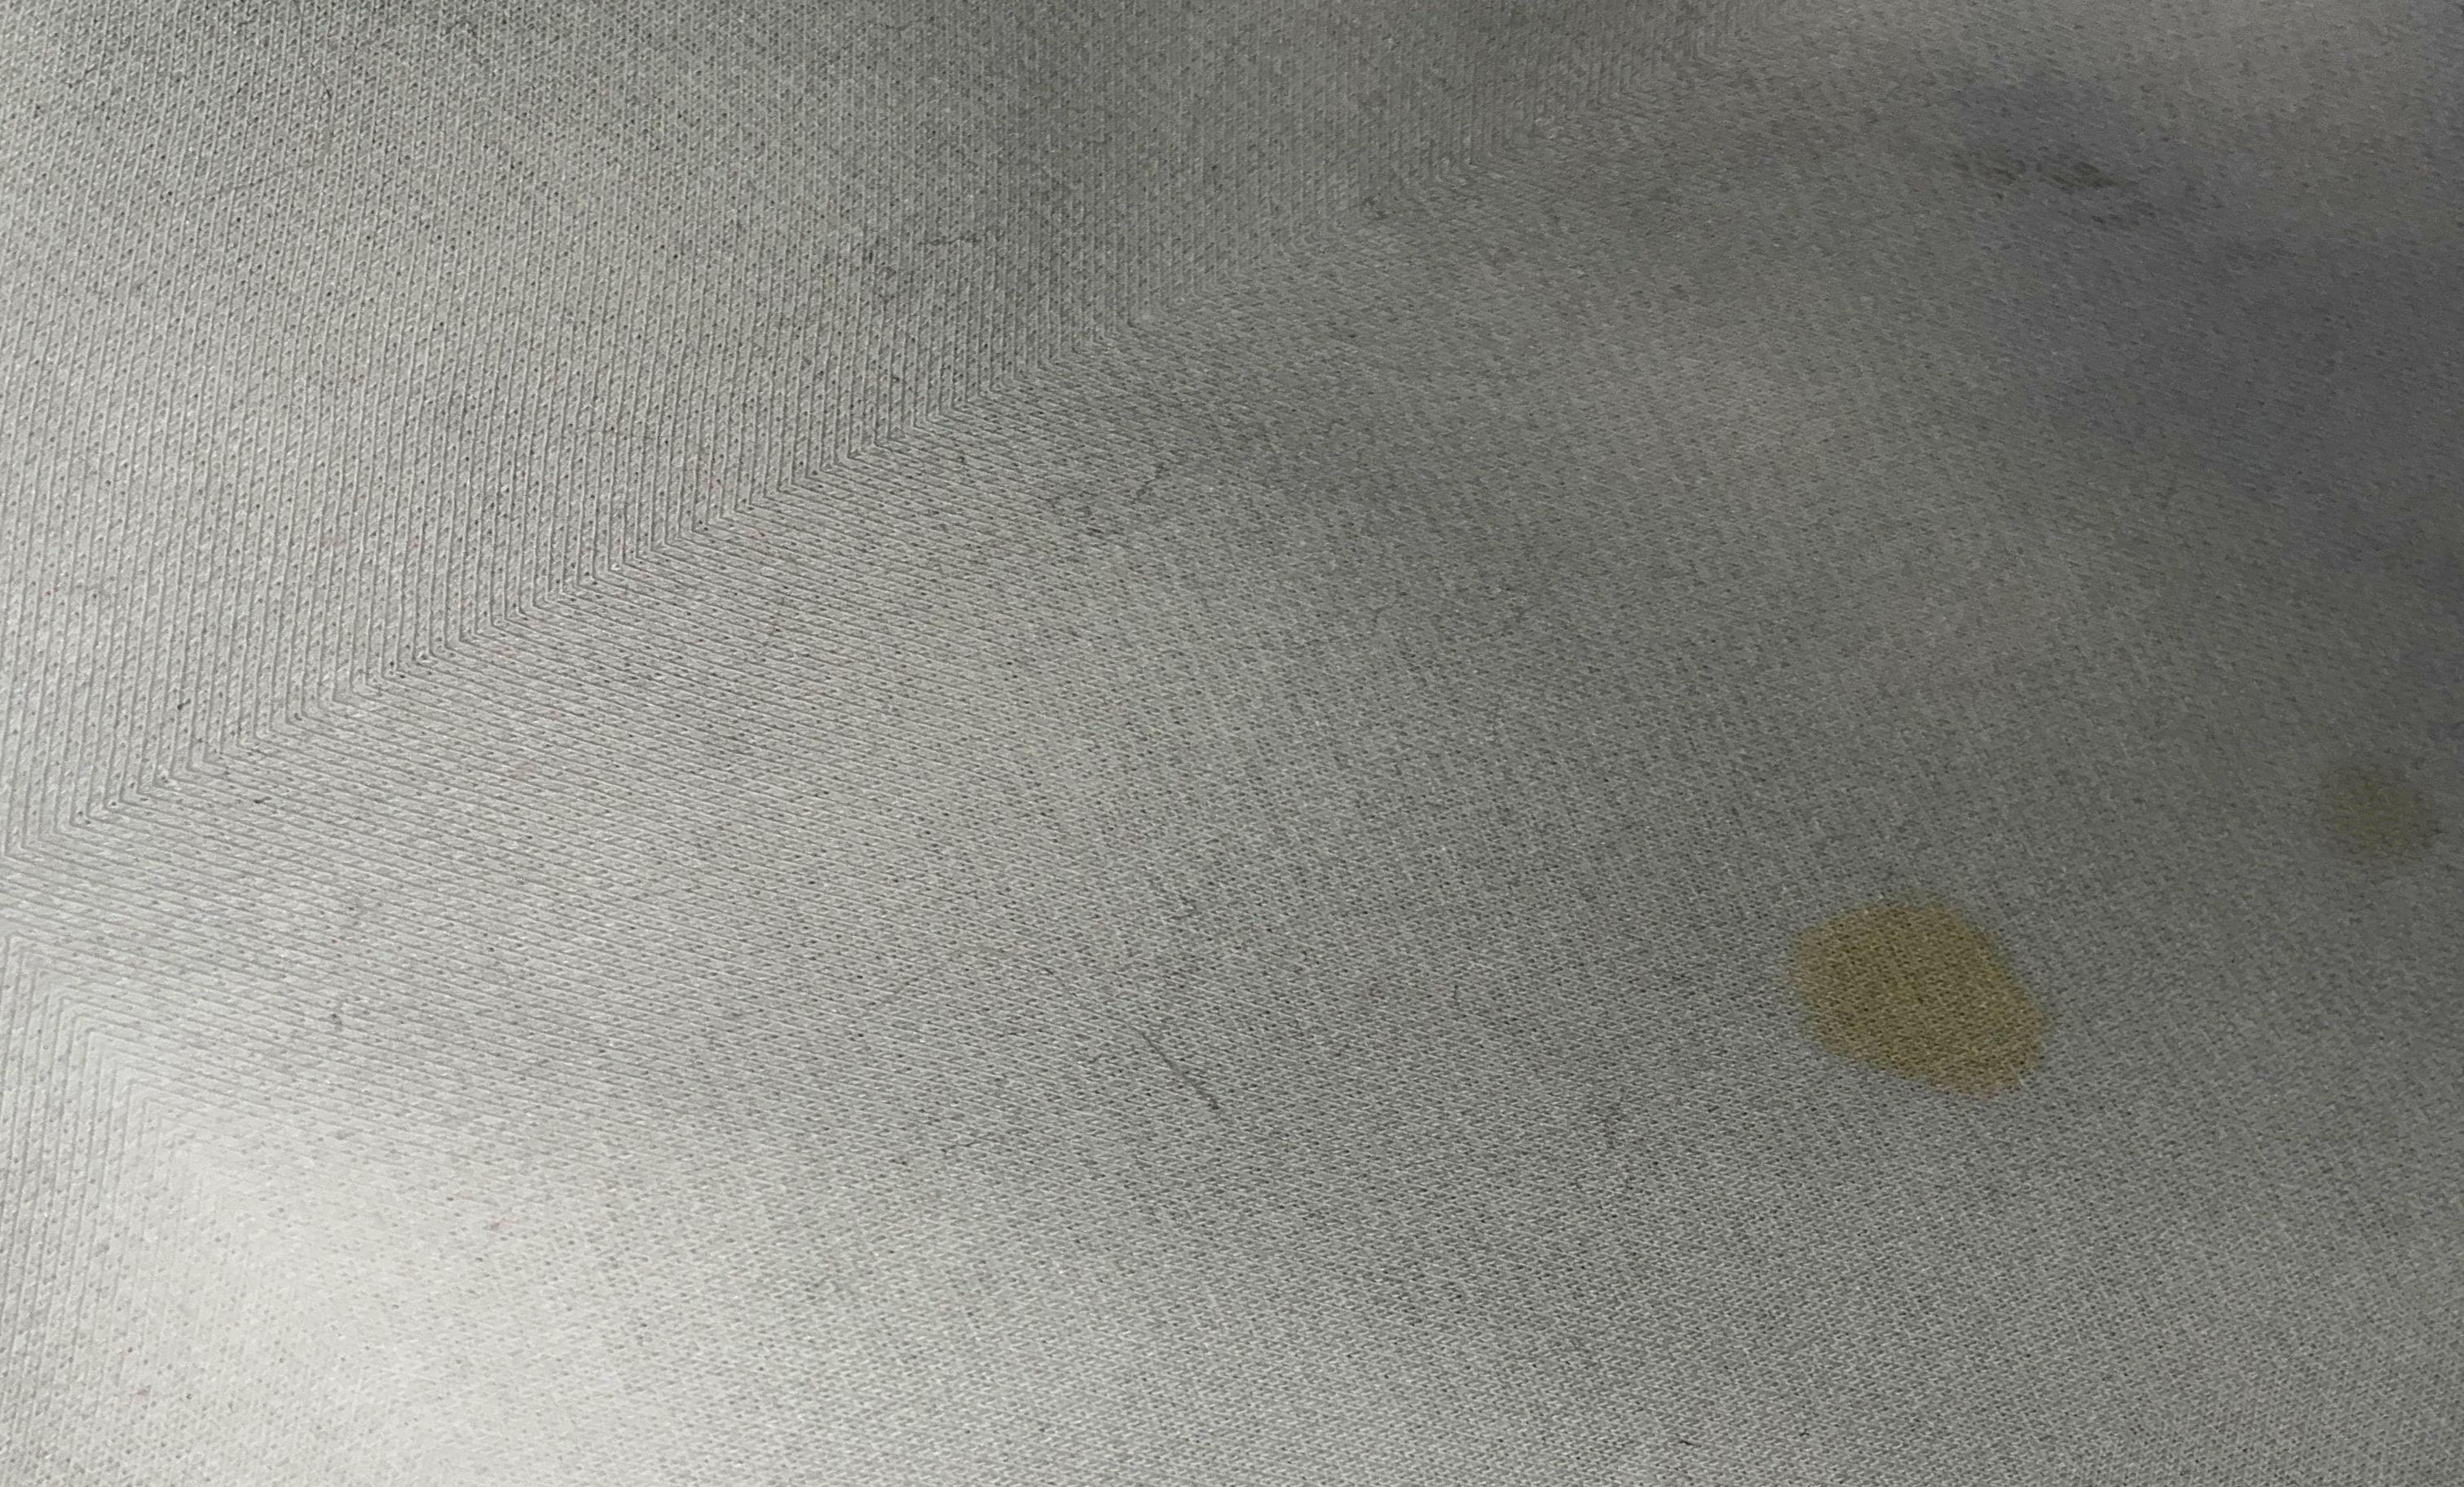stain: (1785, 864, 2080, 1124), (2306, 729, 2455, 896)
